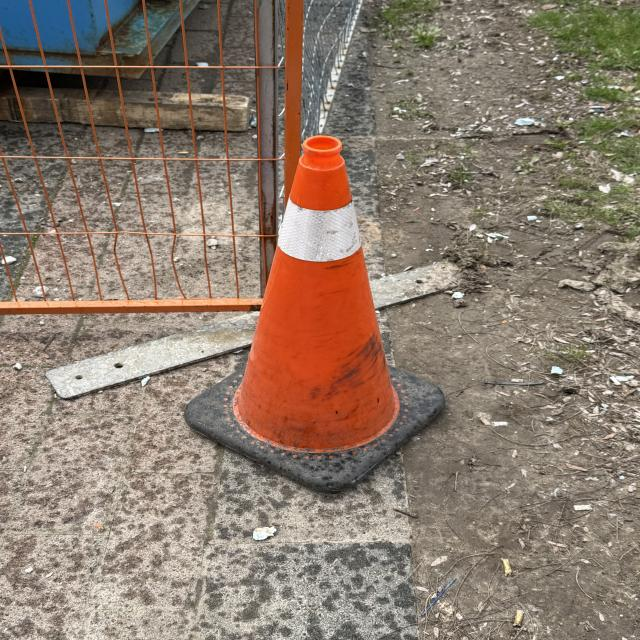Traffic Cone: (183, 136, 447, 494)
